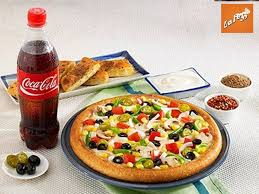coke: (17, 12, 59, 150)
